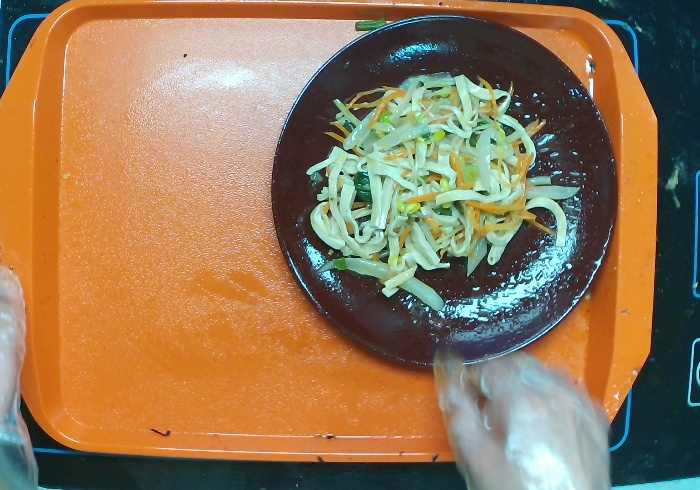HZYJPL-Ka_Fei_Yuan_Pan: (264, 8, 621, 377)
